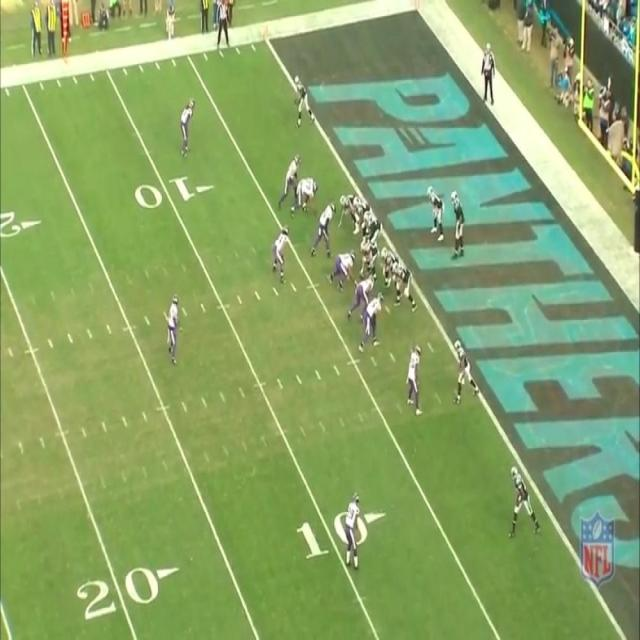center: (360, 242, 376, 278)
db: (404, 343, 425, 409), (344, 492, 358, 569), (179, 97, 195, 154), (168, 294, 180, 366)
lb: (277, 154, 299, 205), (364, 292, 382, 342), (275, 226, 286, 280)
qb: (449, 190, 464, 259)
